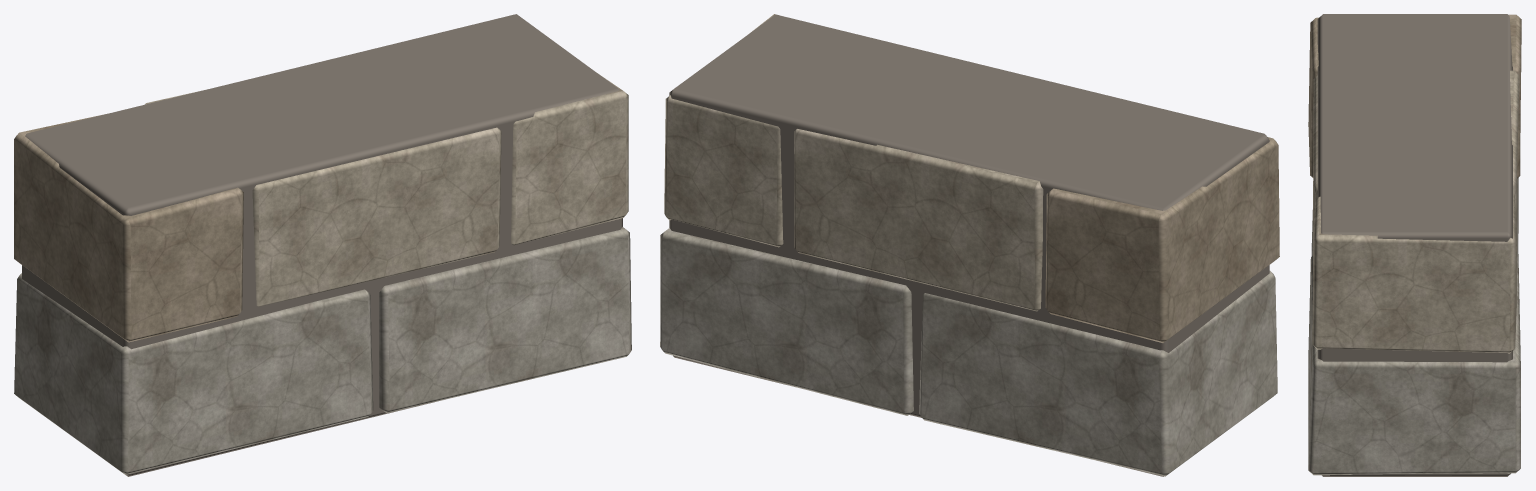
Rendered from Stone_Wall_2x1.glb.
3 views of the same model, side by side, from view 1: azimuth 30°, elevation 25°; view 2: azimuth 150°, elevation 25°; view 3: azimuth 270°, elevation 25° (orthographic). The views are drawn at different scales.
Visible parts, largest first — view 1: Stone_Wall_2x1; view 2: Stone_Wall_2x1; view 3: Stone_Wall_2x1.
Boxes of the visible parts, <box> form: Stone_Wall_2x1: <box>14,14,631,476</box>; Stone_Wall_2x1: <box>660,14,1279,476</box>; Stone_Wall_2x1: <box>1308,14,1521,476</box>.
Bounding box in the file's own units: 1.98 × 1 × 0.7886.
4 materials, 3 textured.
